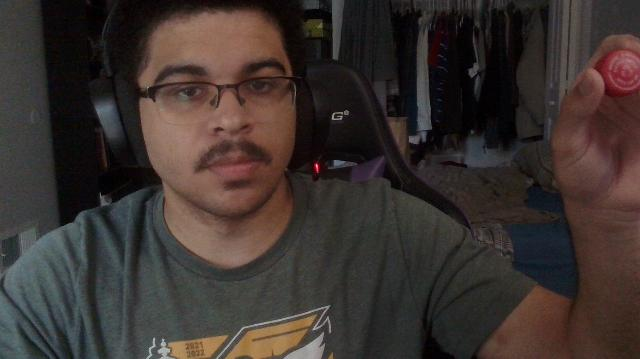cap: (594, 49, 640, 97)
